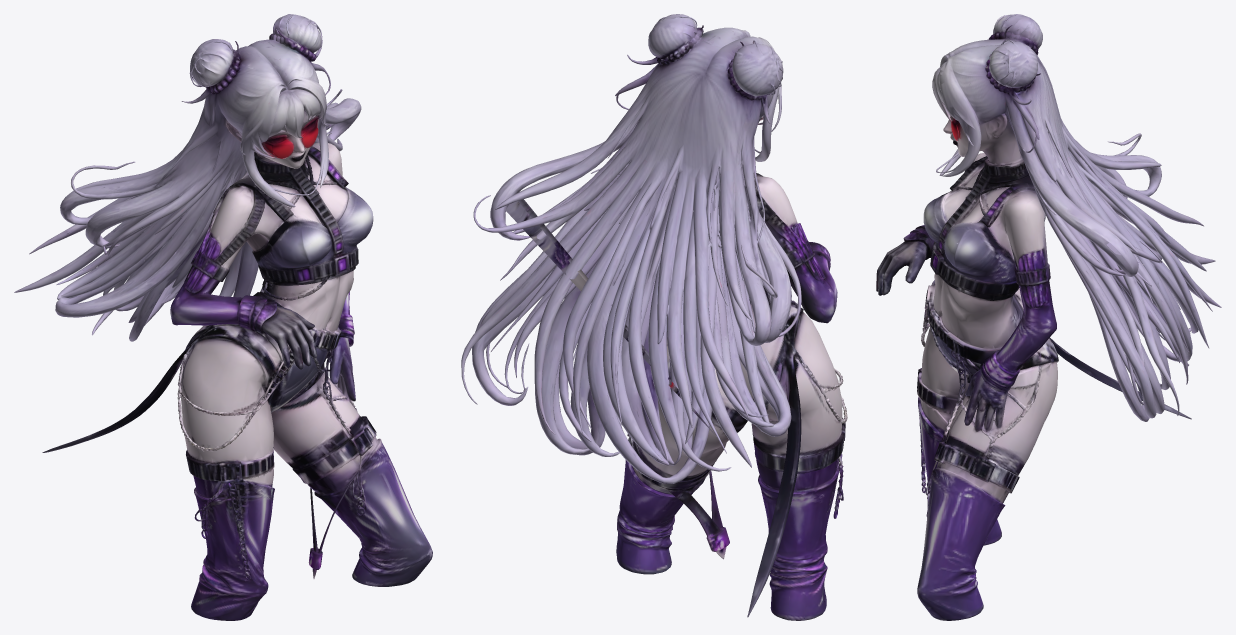
3 views of the same model, side by side, from view 1: azimuth 30°, elevation 25°; view 2: azimuth 150°, elevation 25°; view 3: azimuth 270°, elevation 25° (orthographic). The views are drawn at different scales.
Parts seen in each view (by area): view 1: node_0; view 2: node_0; view 3: node_0.
Boxes of the visible parts, x1,y1,x2,y2 form: node_0: (14,14,432,620); node_0: (461,14,847,620); node_0: (876,14,1221,620).
Bounding box in the file's own units: 0.6006 × 1.06 × 0.615.
Materials: 1 (1 with a texture image).
